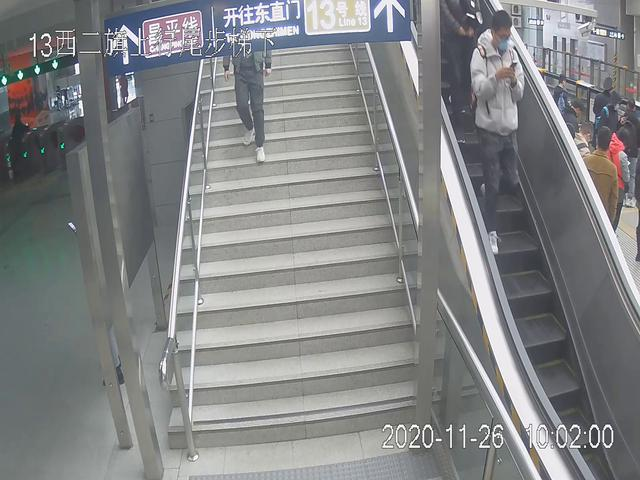person: (468, 8, 527, 255), (215, 42, 279, 164)
